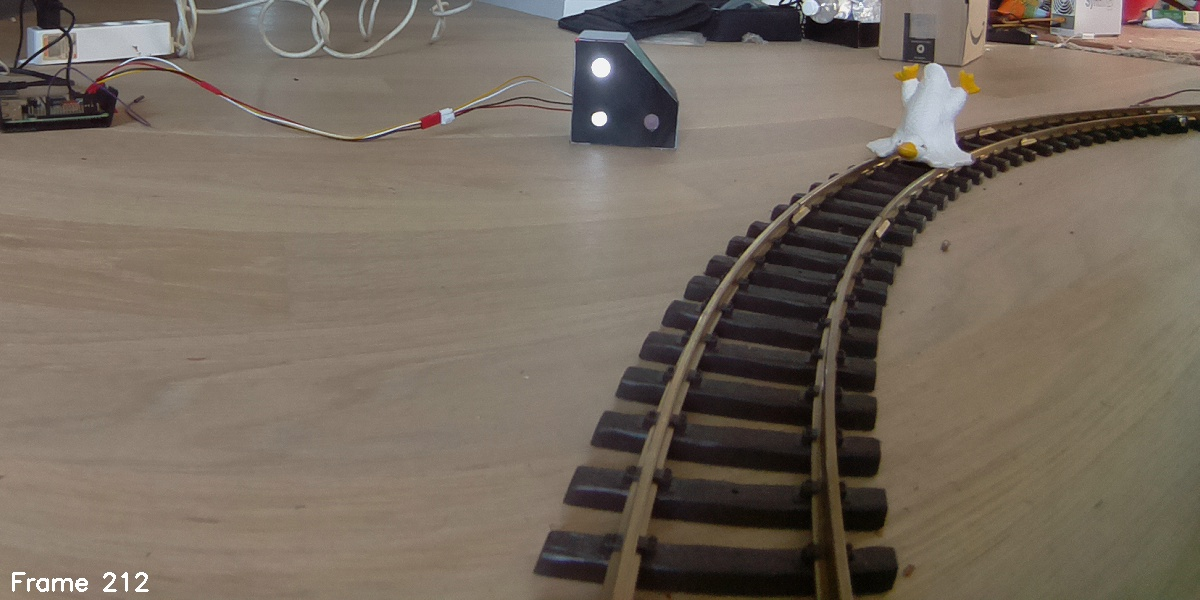Ente: (862, 61, 980, 183)
Fahrt: (569, 27, 681, 153)
